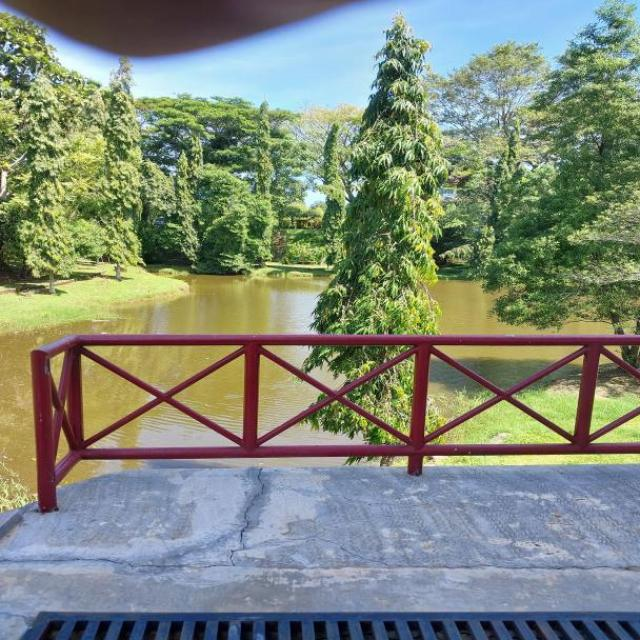barrier ahead at: (28, 332, 640, 467)
